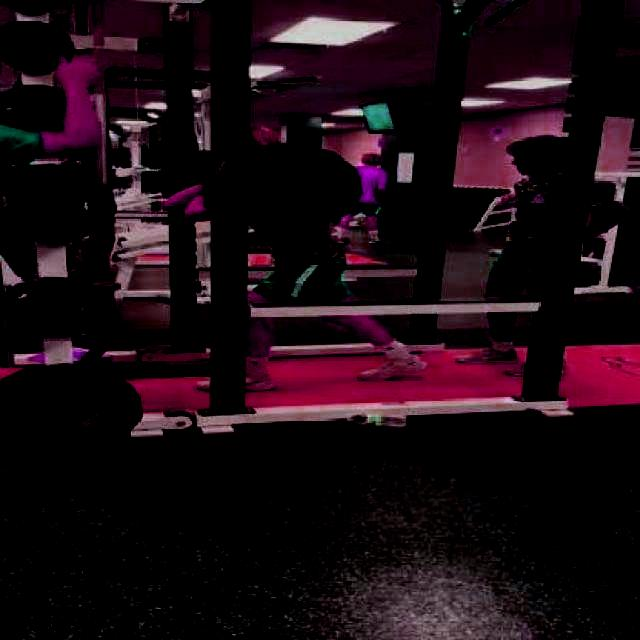barbell: (202, 141, 365, 241)
